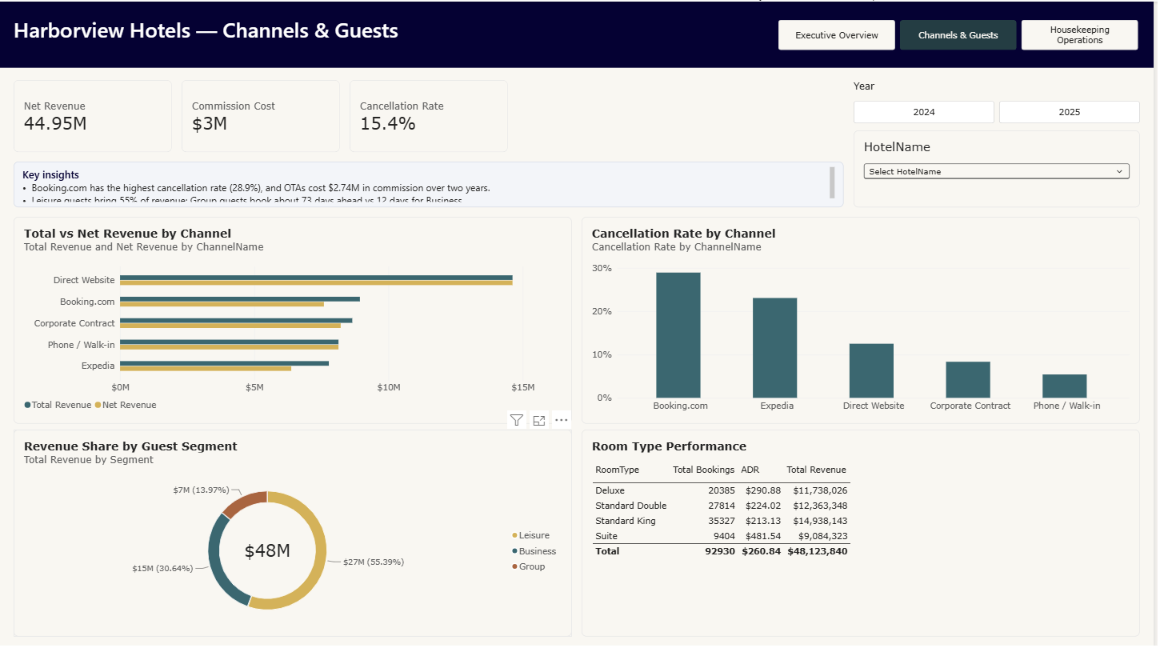

The page's visual inventory and layout, read from the dashboard file:
{"tool":"powerbi","page":{"name":"Channels & Guests","canvas":[1920,1080],"ordinal":1},"visuals":[{"type":"cardVisual","fields":{"Data":["_Measure.Commission Cost"]},"box":[303,130,263,120],"z":0},{"type":"cardVisual","fields":{"Data":["_Measure.Net Revenue"]},"box":[24,130,263,120],"z":1000},{"type":"cardVisual","fields":{"Data":["_Measure.Cancellation Rate"]},"box":[582,130,263,120],"z":2000},{"type":"clusteredBarChart","title":"Total vs Net Revenue by Channel","fields":{"Category":["Channels.ChannelName"],"Y":["_Measure.Total Revenue","_Measure.Net Revenue"]},"box":[24,358,928,344],"z":3000},{"type":"clusteredColumnChart","title":"Cancellation Rate by Channel","fields":{"Category":["Channels.ChannelName"],"Y":["_Measure.Cancellation Rate"]},"box":[968,358,928,344],"z":4000},{"type":"donutChart","title":"Revenue Share by Guest Segment","fields":{"Category":["Bookings.Segment"],"Y":["_Measure.Total Revenue"]},"box":[24,712,928,344],"z":5000},{"type":"tableEx","title":"Room Type Performance","fields":{"Values":["RoomTypes.RoomType","_Measure.Total Bookings","_Measure.ADR","_Measure.Total Revenue"]},"box":[968,712,928,344],"z":6000},{"type":"advancedSlicerVisual","fields":{"Values":["Date.Year"]},"box":[1420,130,476,72],"z":7000},{"type":"listSlicer","fields":{"Values":["Hotels.HotelName"]},"box":[1420,214,476,128],"z":8000},{"type":"shape","box":[0,0,1920,110],"z":8001},{"type":"textbox","box":[24,266,1380,76],"z":8500},{"type":"textbox","box":[24,22,1240,70],"z":9000},{"type":"pageNavigator","box":[1296,30,600,50],"z":9500}]}

Visuals, with their boxes in screenshot pixels (x1, y1, x2, y2), scaled from the page's 1920x1080 canvas onto the 1158x646 screenshot:
cardVisual - _Measure.Commission Cost: {"x1": 183, "y1": 78, "x2": 341, "y2": 150}
cardVisual - _Measure.Net Revenue: {"x1": 14, "y1": 78, "x2": 173, "y2": 150}
cardVisual - _Measure.Cancellation Rate: {"x1": 351, "y1": 78, "x2": 510, "y2": 150}
"Total vs Net Revenue by Channel" clusteredBarChart: {"x1": 14, "y1": 214, "x2": 574, "y2": 420}
"Cancellation Rate by Channel" clusteredColumnChart: {"x1": 584, "y1": 214, "x2": 1144, "y2": 420}
"Revenue Share by Guest Segment" donutChart: {"x1": 14, "y1": 426, "x2": 574, "y2": 632}
"Room Type Performance" tableEx: {"x1": 584, "y1": 426, "x2": 1144, "y2": 632}
advancedSlicerVisual - Date.Year: {"x1": 856, "y1": 78, "x2": 1144, "y2": 121}
listSlicer - Hotels.HotelName: {"x1": 856, "y1": 128, "x2": 1144, "y2": 205}
shape: {"x1": 0, "y1": 0, "x2": 1157, "y2": 66}
textbox: {"x1": 14, "y1": 159, "x2": 847, "y2": 205}
textbox: {"x1": 14, "y1": 13, "x2": 762, "y2": 55}
pageNavigator: {"x1": 782, "y1": 18, "x2": 1144, "y2": 48}
